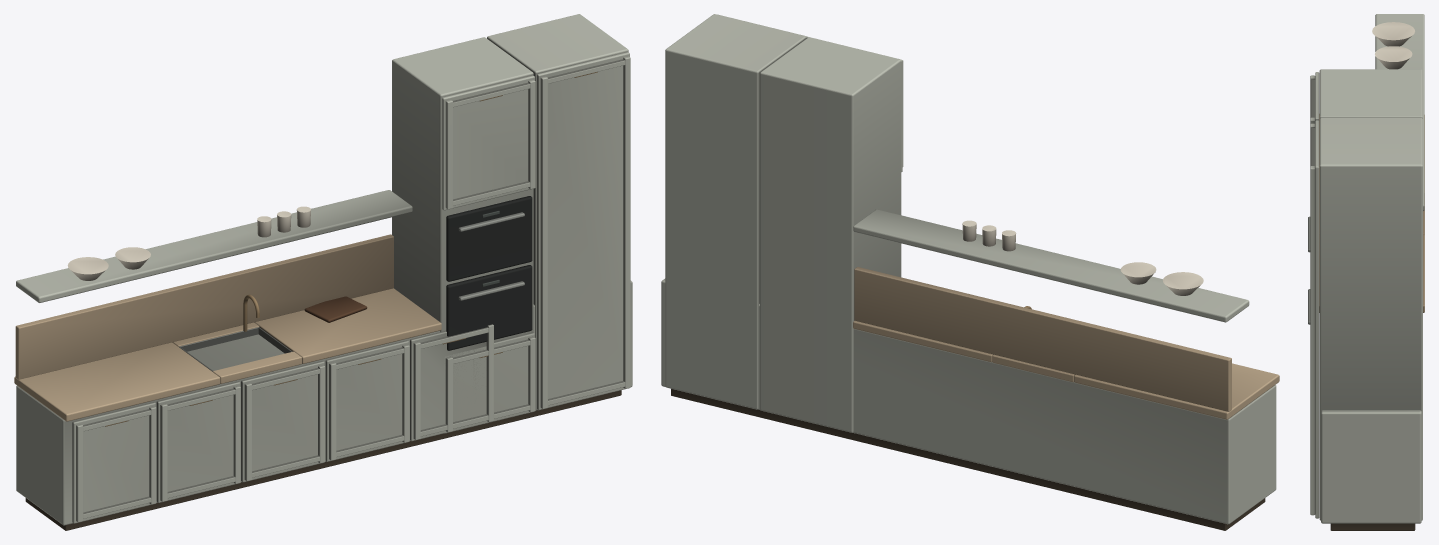
File: frame-wall.glb
3 views of the same model, side by side, from view 1: azimuth 30°, elevation 25°; view 2: azimuth 150°, elevation 25°; view 3: azimuth 270°, elevation 25° (orthographic). The views are drawn at different scales.
Visible parts, largest first — view 1: frame-wall; view 2: frame-wall; view 3: frame-wall.
Boxes of the visible parts, bbox=[...] form: frame-wall: bbox=[14, 14, 632, 530]; frame-wall: bbox=[661, 14, 1279, 530]; frame-wall: bbox=[1308, 14, 1424, 530].
Size of the model in its own units: 4.32 by 2.54 by 0.7319.
